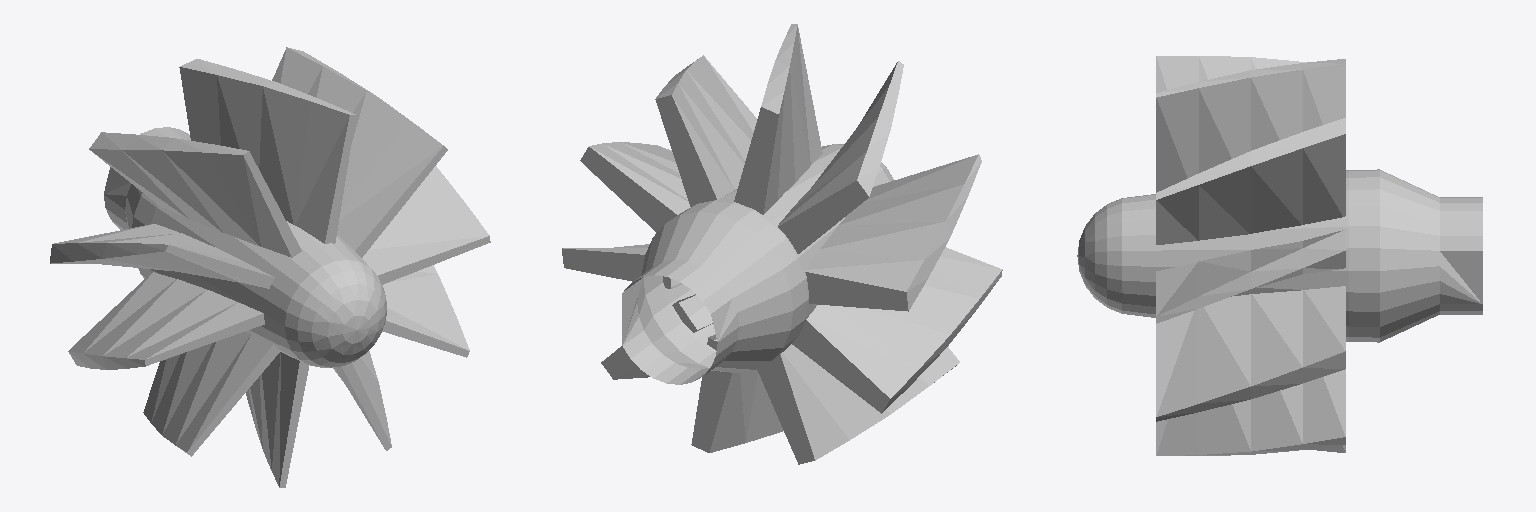
The model's file is prop_obj.obj.
3 views of the same model, side by side, from view 1: azimuth 30°, elevation 25°; view 2: azimuth 150°, elevation 25°; view 3: azimuth 270°, elevation 25° (orthographic).
Visible parts, largest first — view 1: Odyssey_OBJ; view 2: Odyssey_OBJ; view 3: Odyssey_OBJ.
Boxes of the visible parts, x1,y1,x2,y2 form: Odyssey_OBJ: [50, 47, 490, 487]; Odyssey_OBJ: [562, 24, 1002, 464]; Odyssey_OBJ: [1077, 56, 1482, 455].
Bounding box in the file's own units: 107 × 107 × 108.